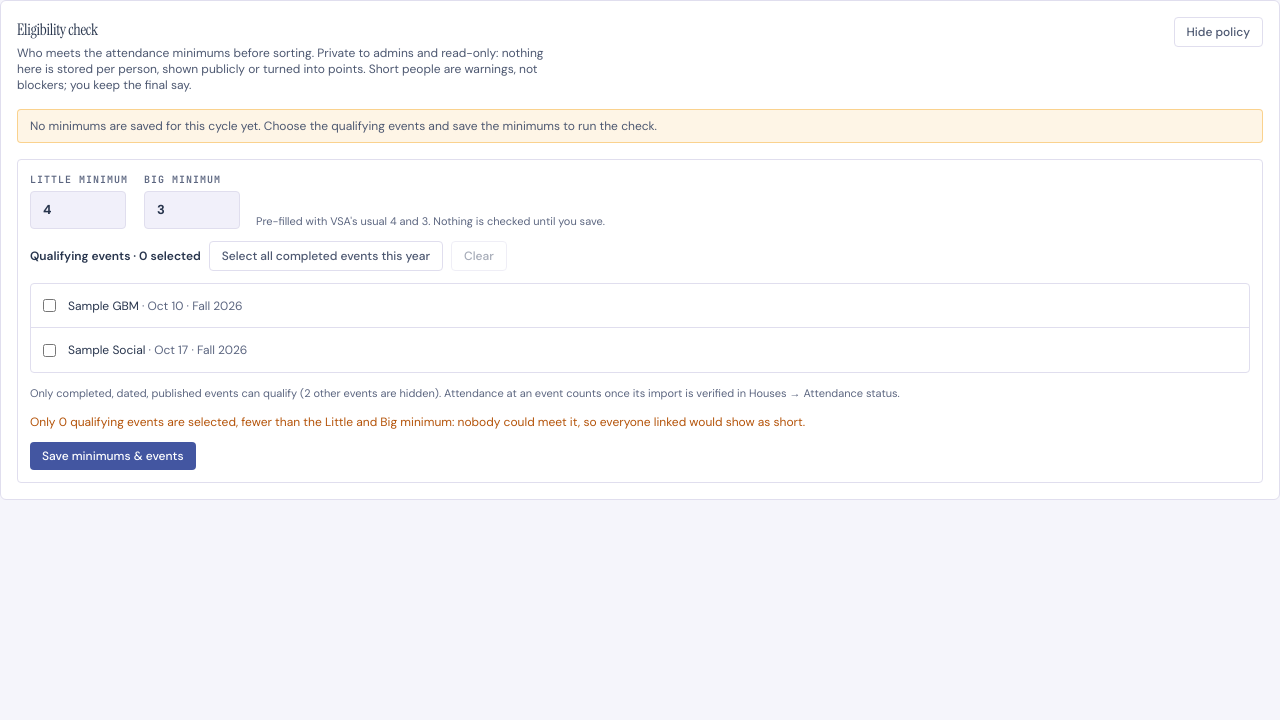
Test: refuses minimums outside 1–20 before saving
Step 1. Replace the text in the number field labelled "Little minimum" with "21" → (78, 210), box [30,191,126,229]
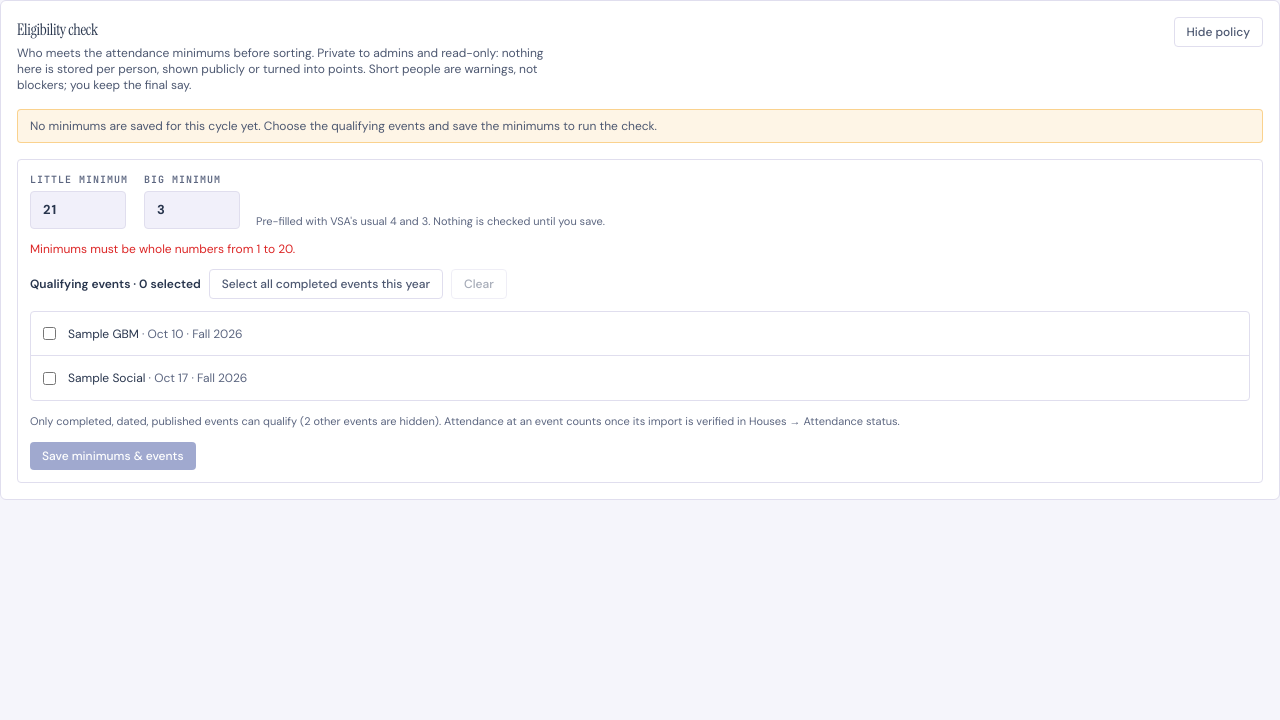
Expected: the message reads "Minimums must be whole numbers from 1 to 20.", [30,241,295,257]
Expected: the button "Save minimums & events" is disabled, [30,442,196,470]
